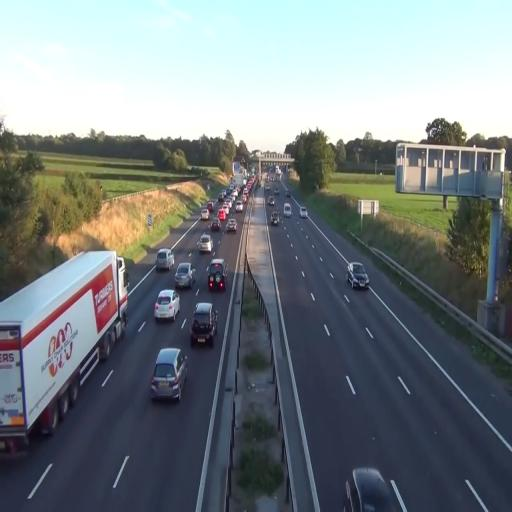vehicle: (0, 250, 129, 456), (347, 467, 408, 512), (150, 346, 188, 401), (190, 302, 218, 348), (153, 289, 180, 323), (206, 258, 227, 292), (347, 262, 370, 290), (174, 262, 195, 290), (156, 249, 174, 274), (198, 232, 214, 254), (268, 206, 280, 226), (227, 219, 237, 233)
